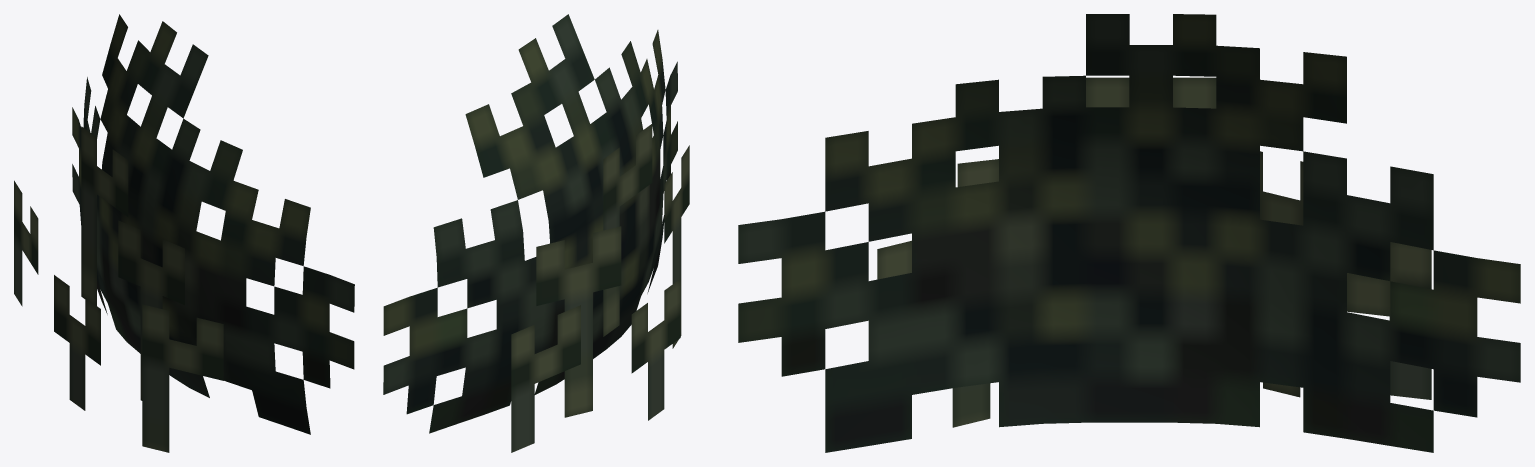
Rendered from EnvFldMD_Grass_B_Mountain_SB.FBX.
The picture shows the model from 3 angles, left to right: view 1: azimuth 30°, elevation 25°; view 2: azimuth 150°, elevation 25°; view 3: azimuth 270°, elevation 25°; orthographic projection. The views are drawn at different scales.
Parts seen in each view (by area): view 1: EnvFldMD_Grass_B_Mountain_SB; view 2: EnvFldMD_Grass_B_Mountain_SB; view 3: EnvFldMD_Grass_B_Mountain_SB.
Part boxes in pixels (box(x1,y1,x2,y2)): EnvFldMD_Grass_B_Mountain_SB: box(14, 14, 354, 452); EnvFldMD_Grass_B_Mountain_SB: box(383, 14, 689, 452); EnvFldMD_Grass_B_Mountain_SB: box(738, 14, 1520, 452).
Size of the model in its own units: 23.65 by 60 by 90.
Materials: 1 (1 with a texture image).
